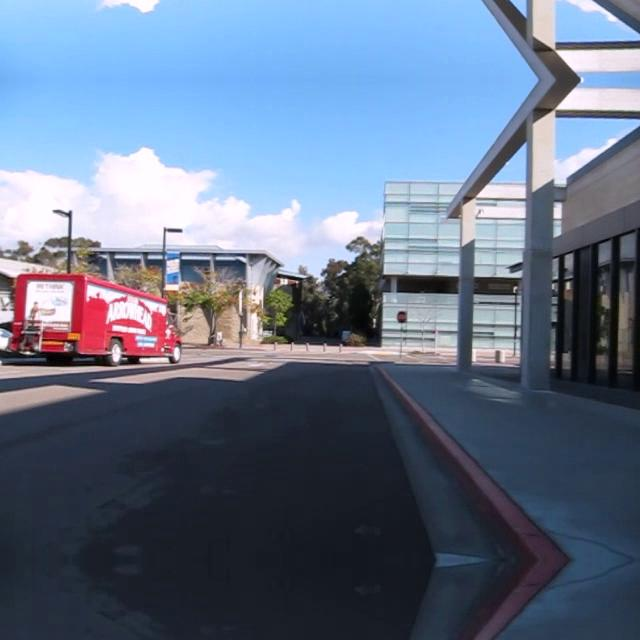stop: (395, 310, 407, 322)
